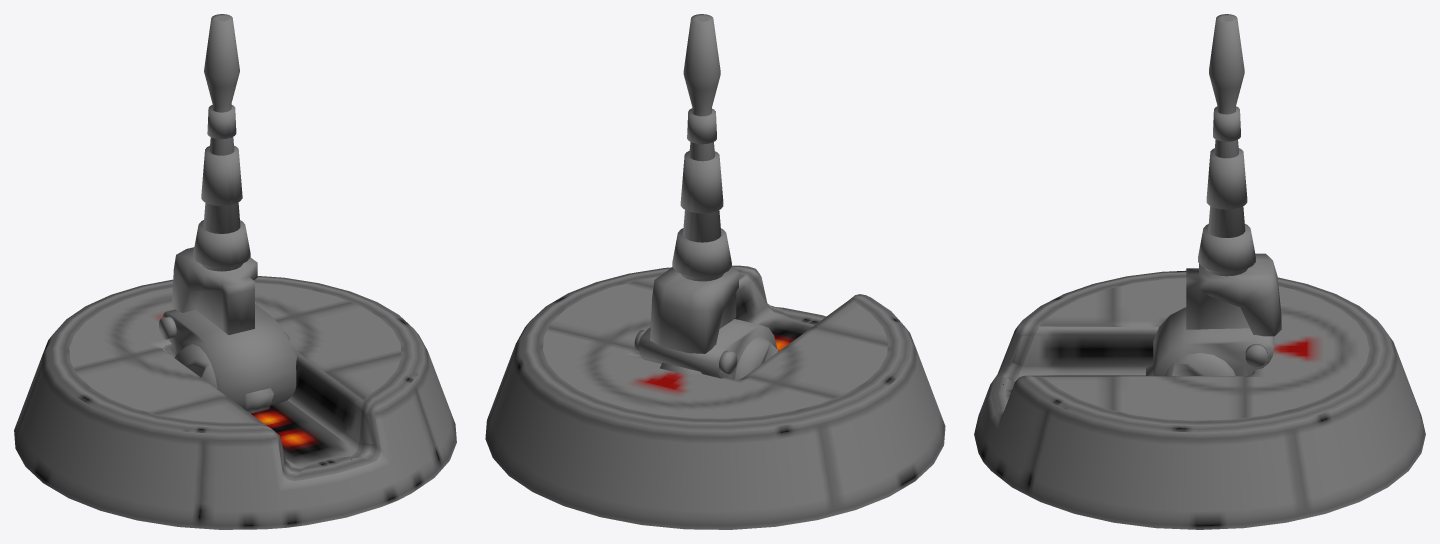
File: Dorkir_Turret01.fbx
3 renders of one model, left to right at view 1: azimuth 30°, elevation 25°; view 2: azimuth 150°, elevation 25°; view 3: azimuth 270°, elevation 25°, orthographic. The views are drawn at different scales.
Parts seen in each view (by area): view 1: Cylinder001, Laser Cannon; view 2: Cylinder001, Laser Cannon; view 3: Cylinder001, Laser Cannon.
Part boxes in pixels (x1,y1,x2,y2): Cylinder001: (14,276,456,529); Laser Cannon: (159,14,297,413); Cylinder001: (485,265,945,529); Laser Cannon: (634,14,778,379); Cylinder001: (974,270,1425,529); Laser Cannon: (1146,14,1281,375).
Bounding box in the file's own units: 7.52 × 7.63 × 7.52.
Materials: 2 (2 with a texture image).
